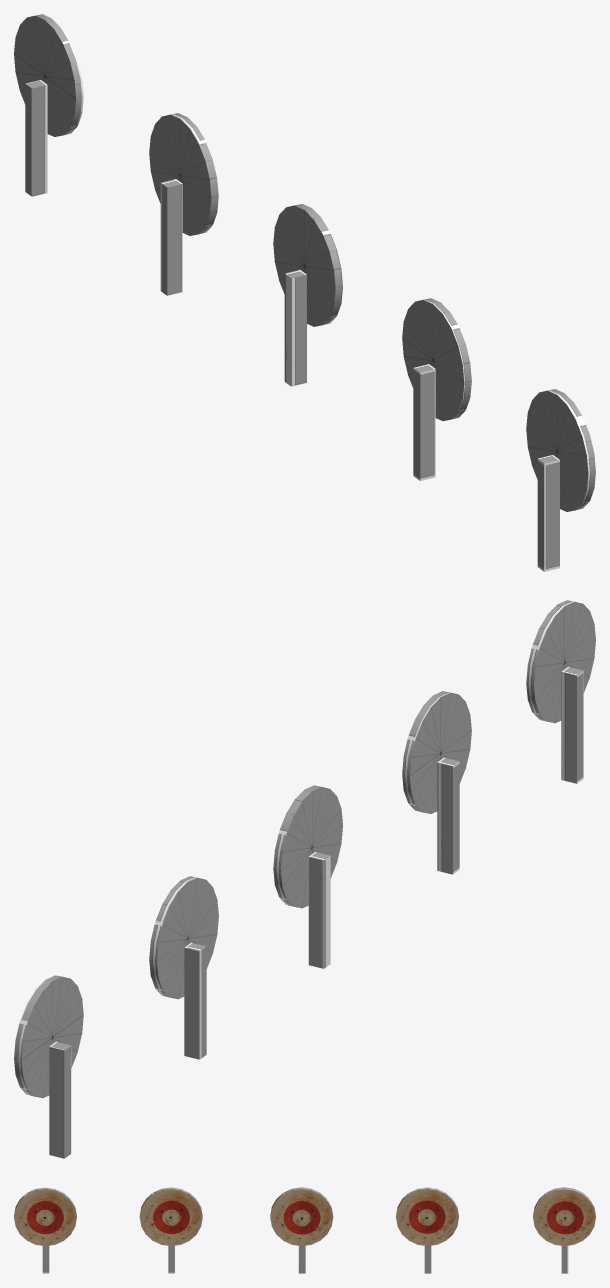
Rendered from Targettop.fbx.
The picture shows the model from 3 angles, top to bottom: view 1: azimuth 30°, elevation 25°; view 2: azimuth 150°, elevation 25°; view 3: azimuth 270°, elevation 25°; orthographic projection. The views are drawn at different scales.
Visible parts, largest first — view 1: Targettop_T; view 2: Targettop_T; view 3: Targettop_T.
Part boxes in pixels (x1,y1,x2,y2): Targettop_T: (14,14,595,571); Targettop_T: (14,600,595,1158); Targettop_T: (14,1187,595,1273).
Bounding box in the file's own units: 0.1499 × 1.04 × 6.35.
